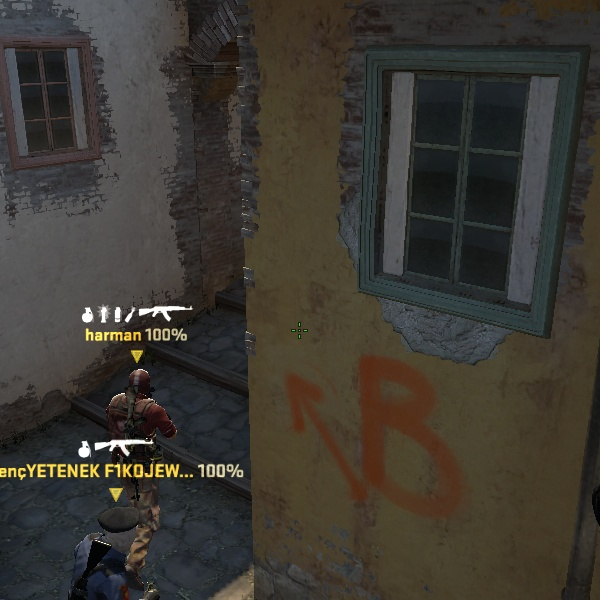t_body: (94, 366, 183, 465)
t_head: (119, 365, 159, 408)
